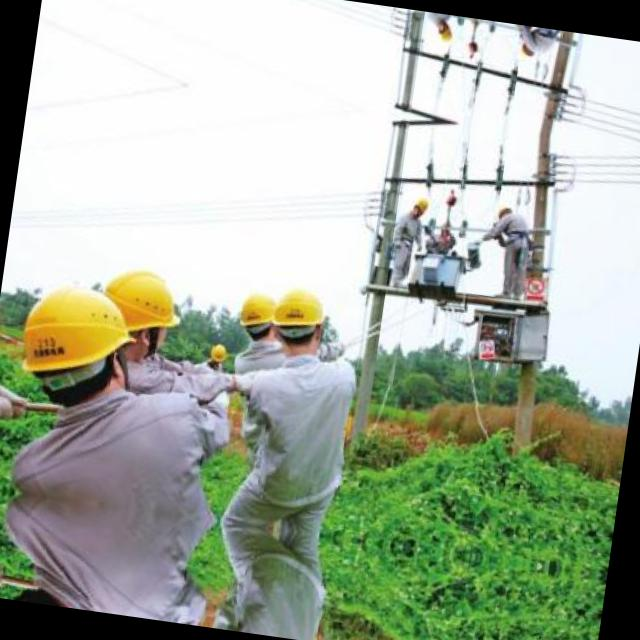helmet: (14, 268, 155, 403), (90, 257, 194, 367), (260, 274, 332, 356), (232, 278, 286, 348), (206, 338, 227, 368), (411, 194, 432, 218), (435, 21, 456, 45), (516, 38, 536, 63), (493, 200, 513, 224)
